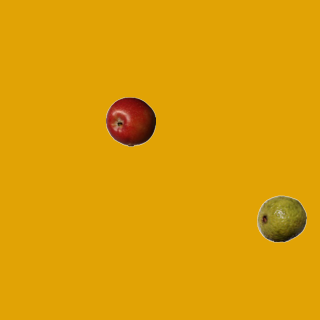Apple Braeburn: (105, 96, 155, 146)
Guava: (256, 193, 306, 243)
